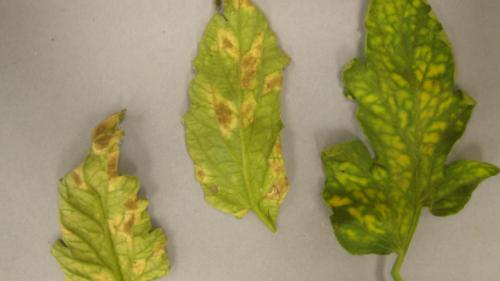Tomato mold leaf: (309, 0, 500, 265), (174, 0, 306, 227), (40, 115, 171, 281)
